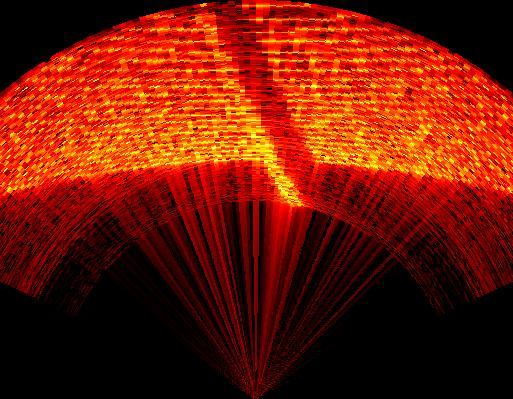pipe: (182, 2, 332, 209)
